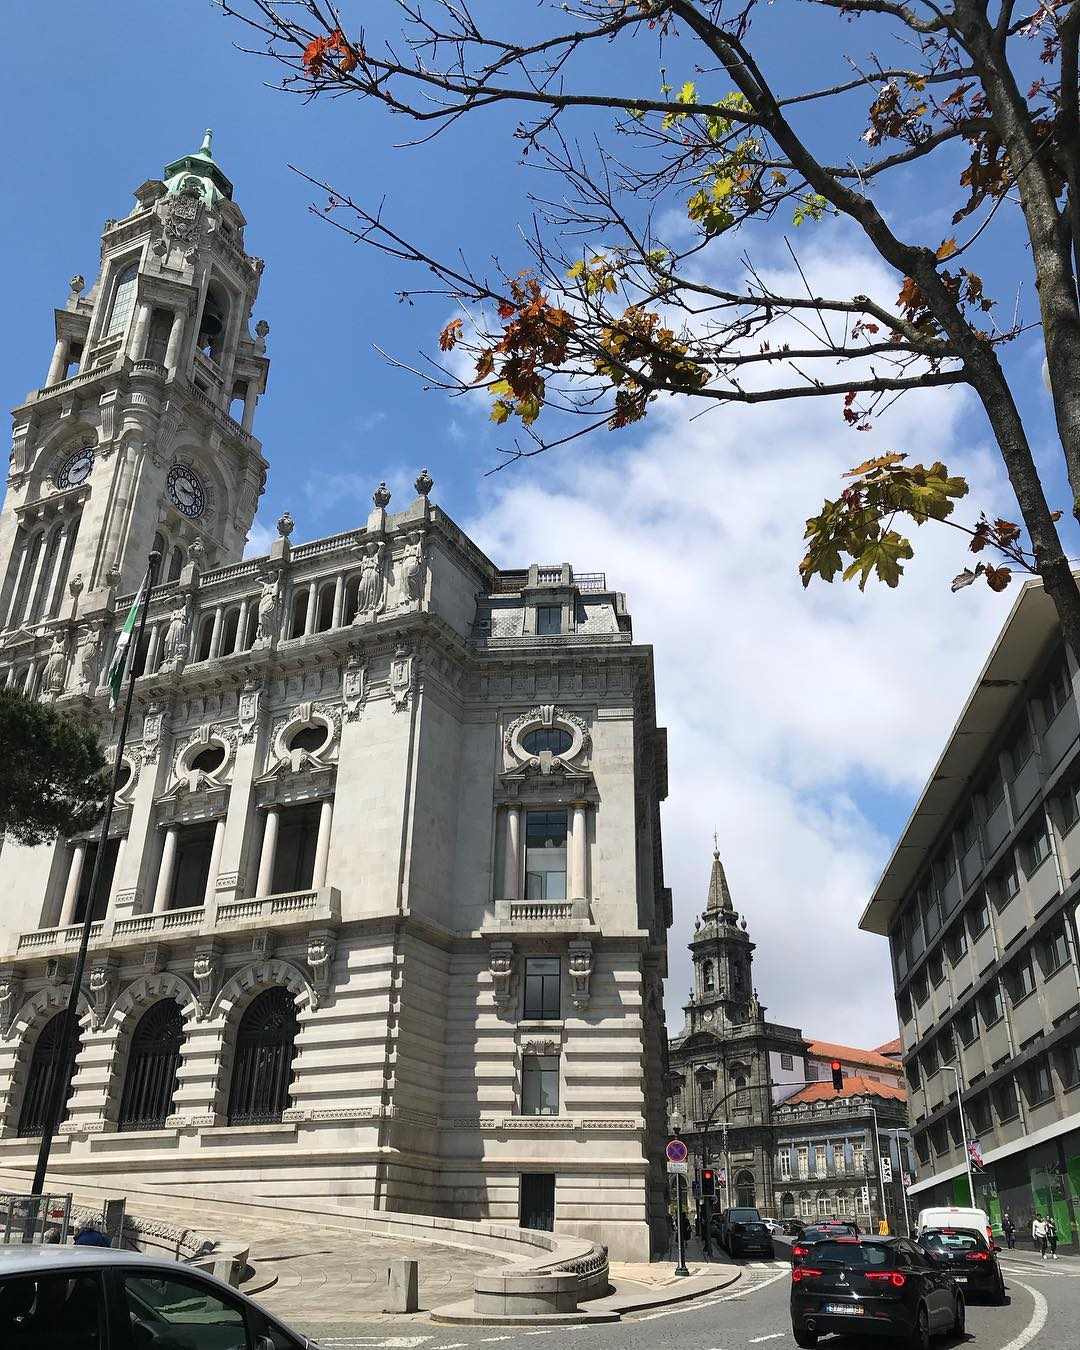camara: (0, 122, 676, 1264)
